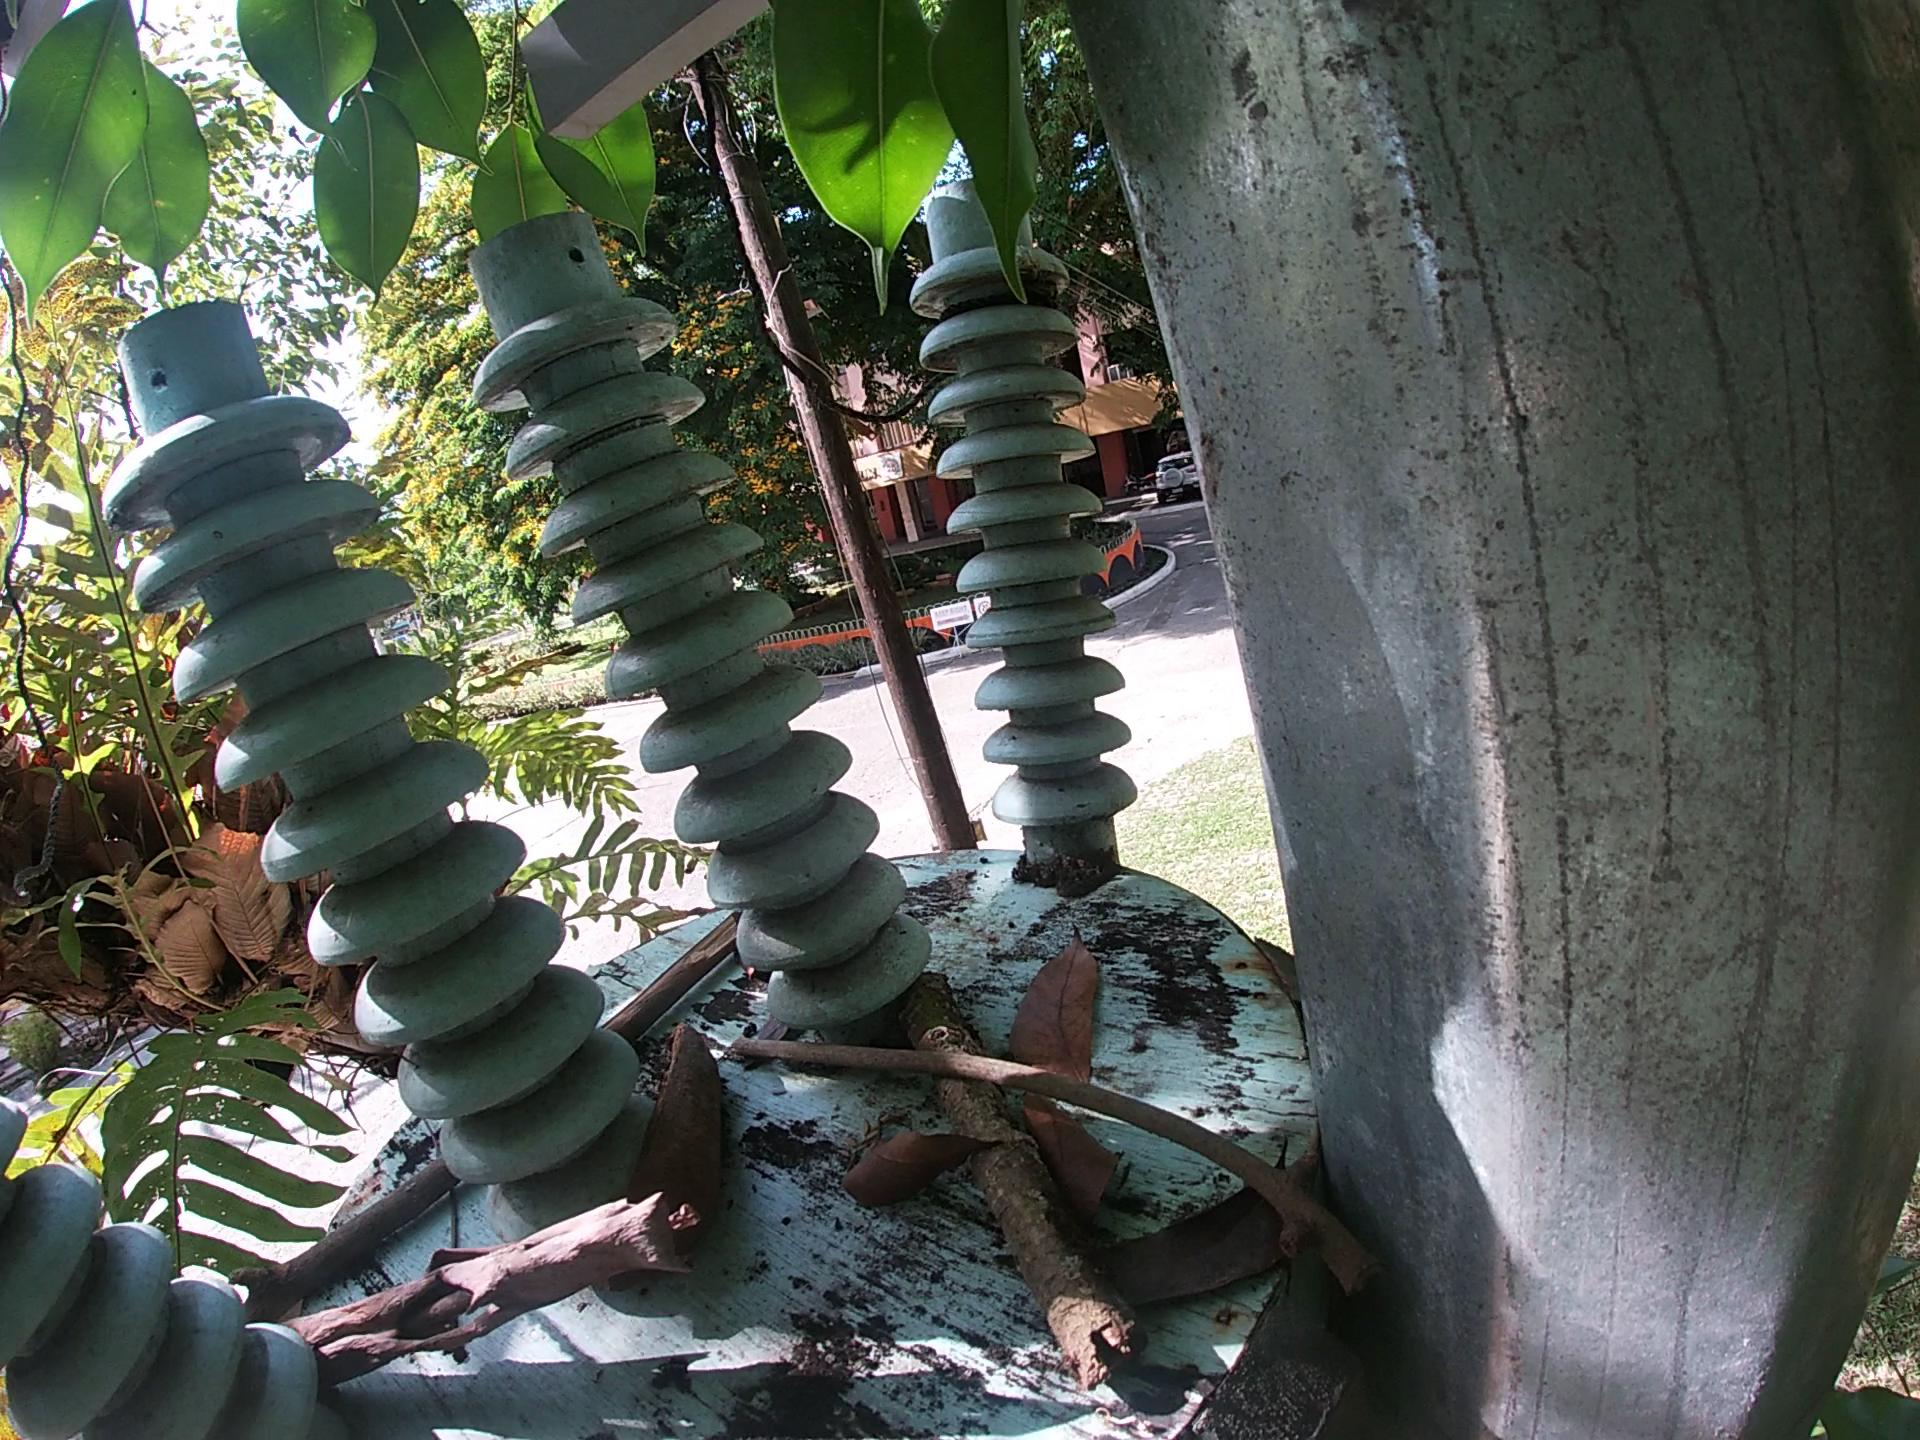leaf: (1085, 1130, 1302, 1319), (1005, 921, 1113, 1085), (835, 1122, 1011, 1219), (1023, 1082, 1128, 1231)
mahogany fruit: (611, 1019, 735, 1304)
tree branch: (729, 1023, 1391, 1304), (889, 959, 1146, 1396), (275, 1184, 714, 1402), (225, 1162, 463, 1333), (597, 912, 754, 1044)
